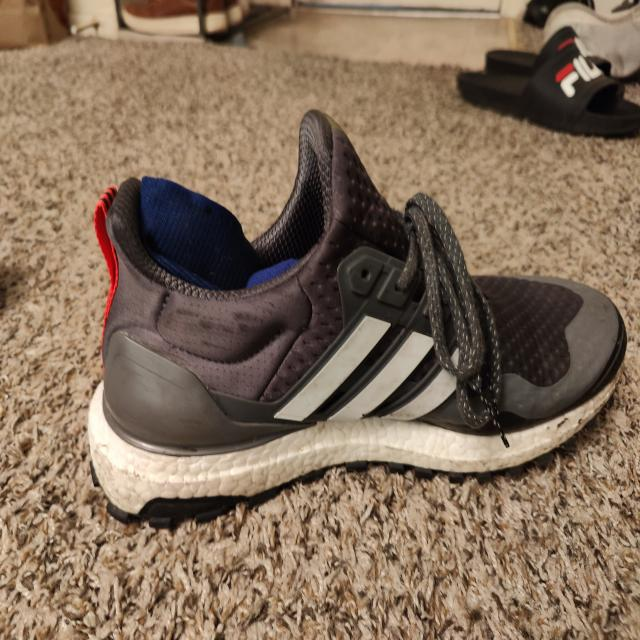black shoes: (93, 118, 628, 500)
